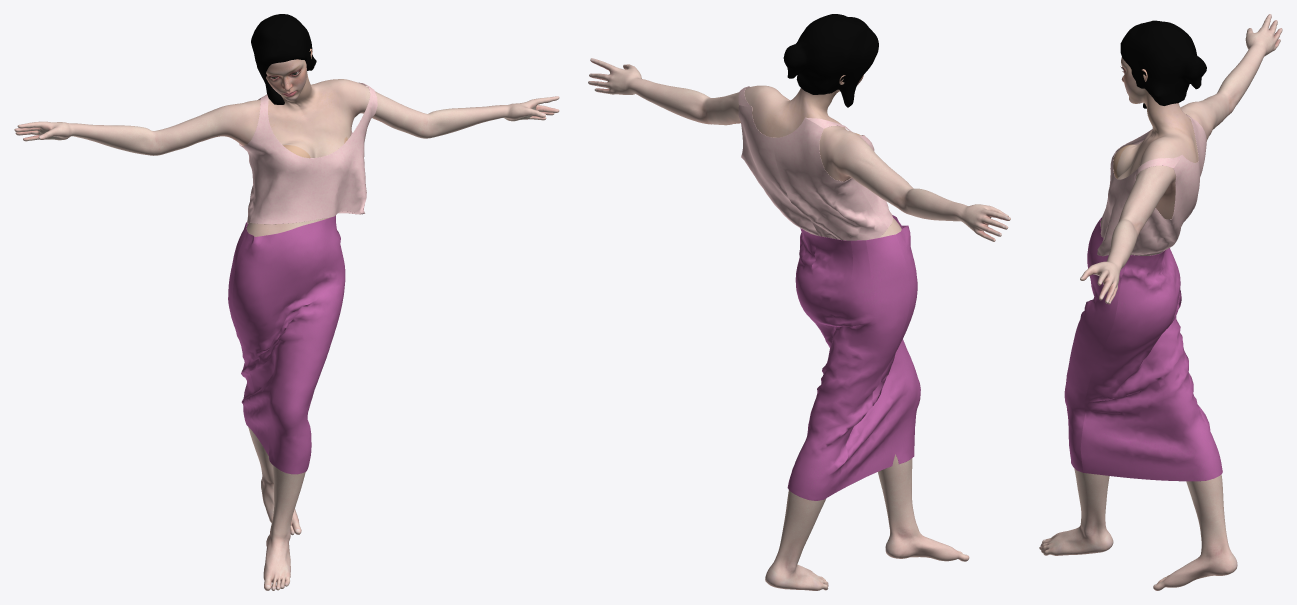
File: Dynamic_2.obj
The picture shows the model from 3 angles, left to right: view 1: azimuth 30°, elevation 25°; view 2: azimuth 150°, elevation 25°; view 3: azimuth 270°, elevation 25°; orthographic projection. The views are drawn at different scales.
Size of the model in its own units: 1601 by 1717 by 679.
